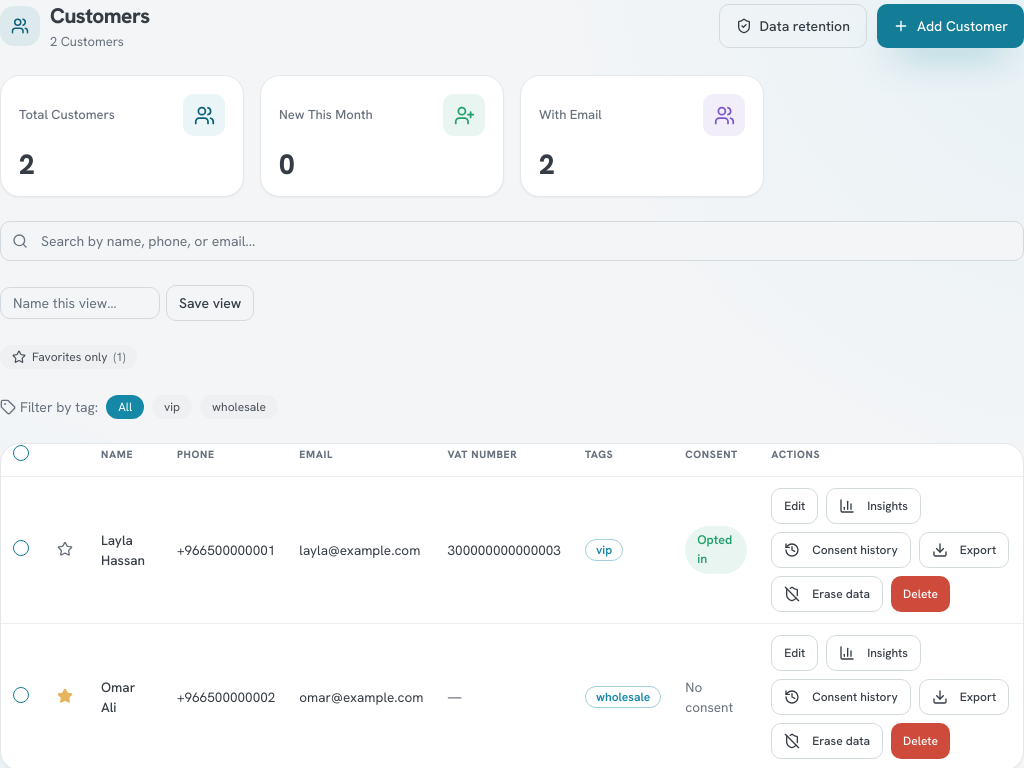
Test case: CustomerManagement entity favorites (#273) › persists stars across a remount (localStorage)
Earlier steps of the test are not shown.
Click the button "Favorites only (1)". click: click(69, 357)
box: [0,345,138,369]
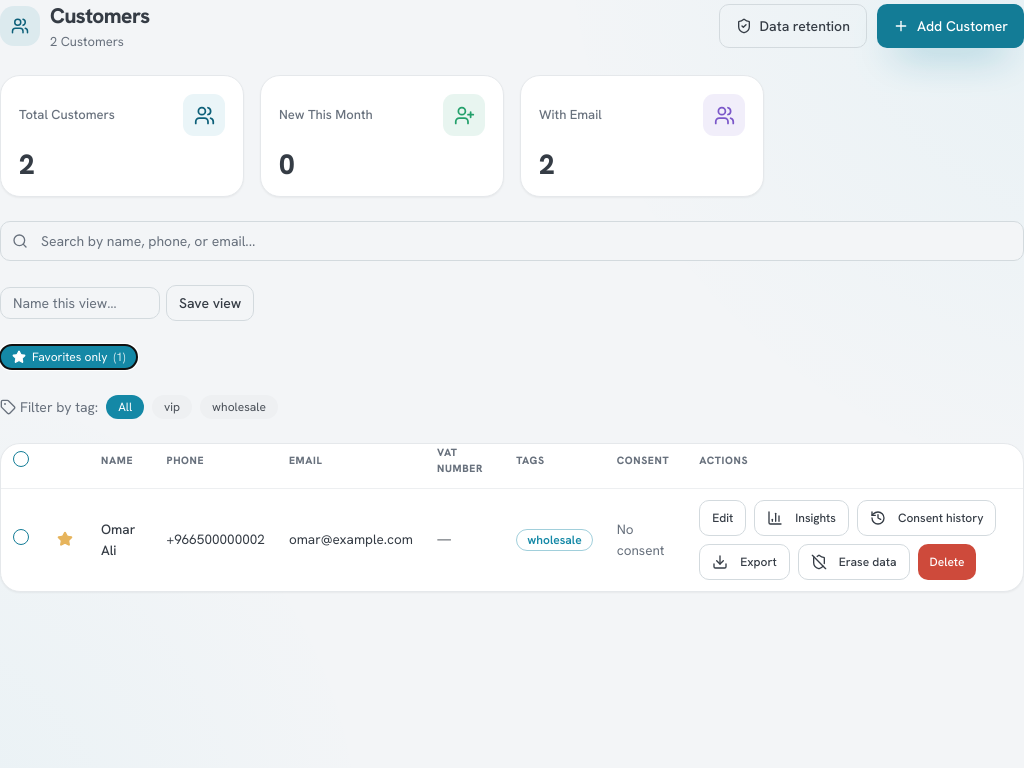
Expected: the text "Omar Ali" is shown, [89,488,155,590]
Now the text "Layla Hassan" is gone
